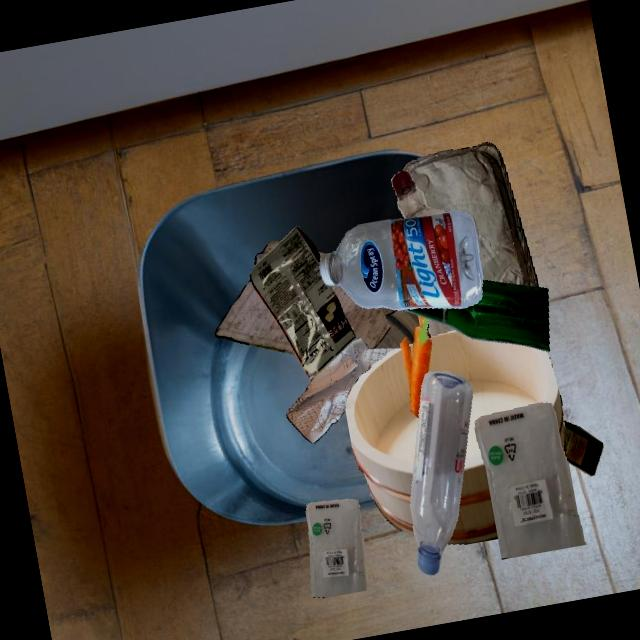biowaste: (400, 315, 431, 417)
cardboard: (563, 420, 603, 476)
combustible waste: (429, 330, 566, 543), (345, 347, 418, 536)
glass: (399, 279, 549, 351), (426, 329, 431, 337)
metal: (401, 142, 538, 287)
paper: (286, 338, 399, 443), (230, 242, 351, 327)
plastic: (475, 402, 585, 558), (319, 210, 482, 310), (249, 226, 355, 379), (410, 370, 472, 576), (305, 498, 366, 597), (391, 170, 445, 218)
